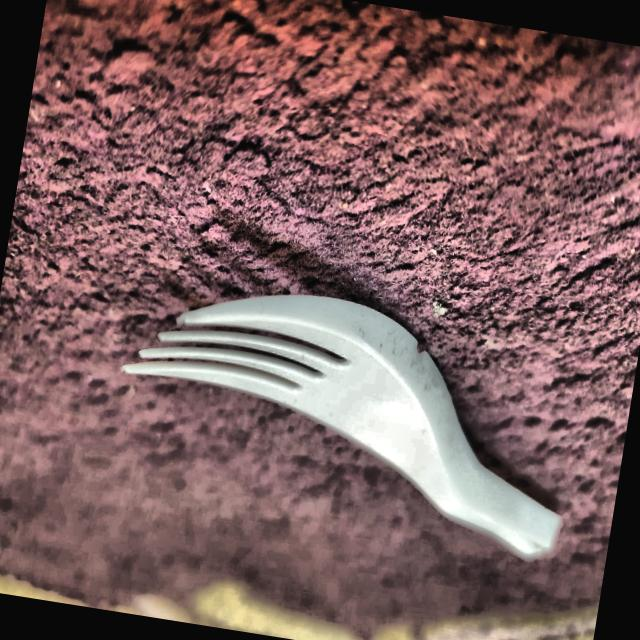plastic utensil: (93, 249, 606, 582)
